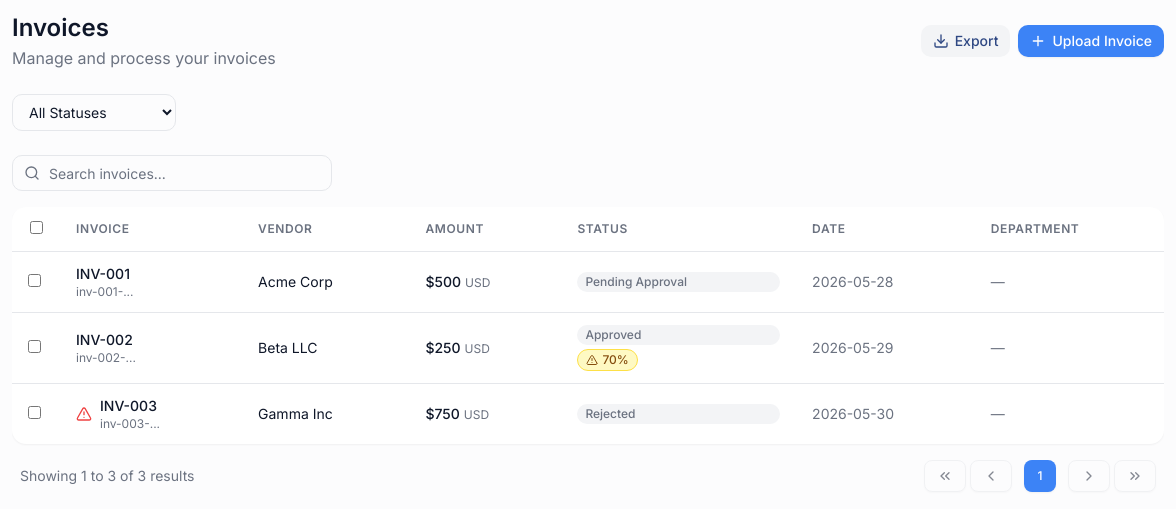
Test case: InvoicesPage › renders header checkbox and per-row checkboxes; select-all selects all visible rows
Check: the text "INV-001" is shown, box [76,264,134,284]
# Click the header checkbox (select all)
Click the checkbox in the row of "Vendor": (36, 228) [30,221,42,234]
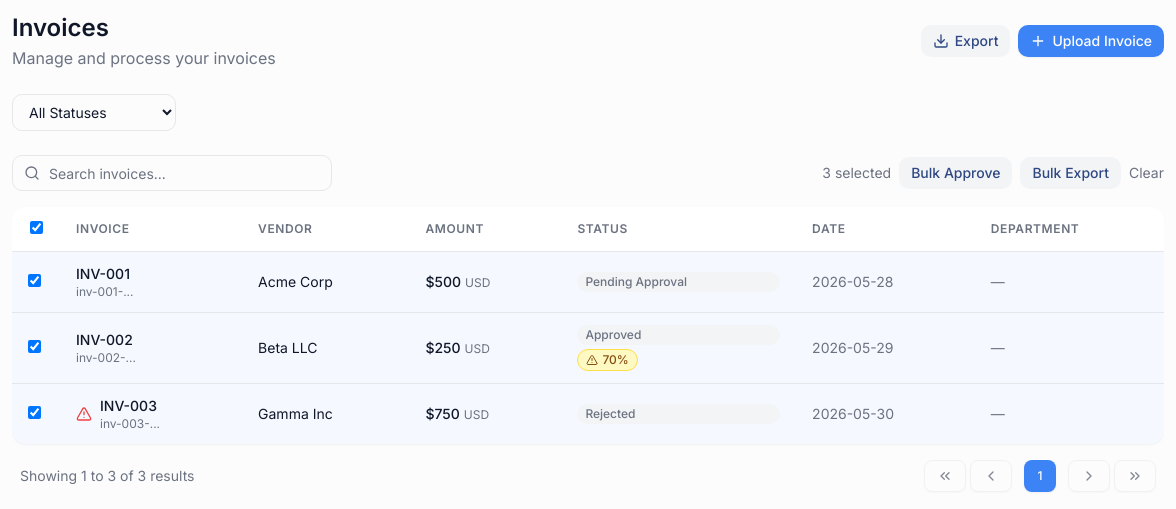
Check: the button "Bulk Approve" is enabled, box [899,157,1012,189]
Check: the button "Bulk Export" is enabled, box [1020,157,1121,189]
Check: the button "Clear" is shown, box [1129,163,1164,183]
